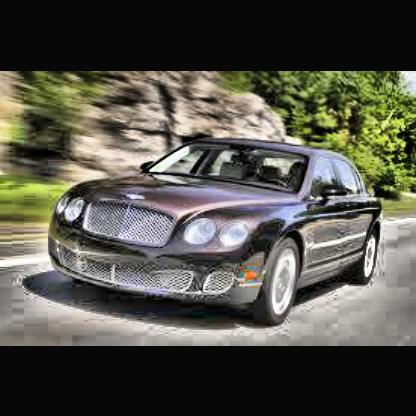Bentley Continental Flying Spur Sedan 2007: (48, 137, 387, 329)
